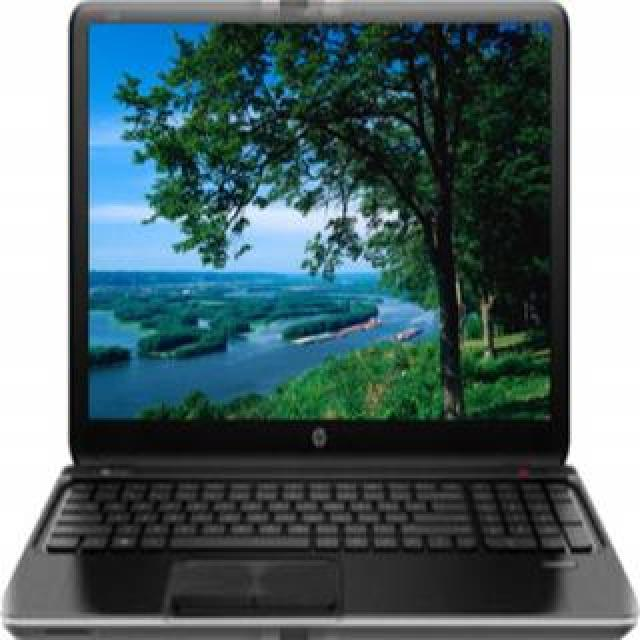laptop_computer: (32, 2, 638, 639)
